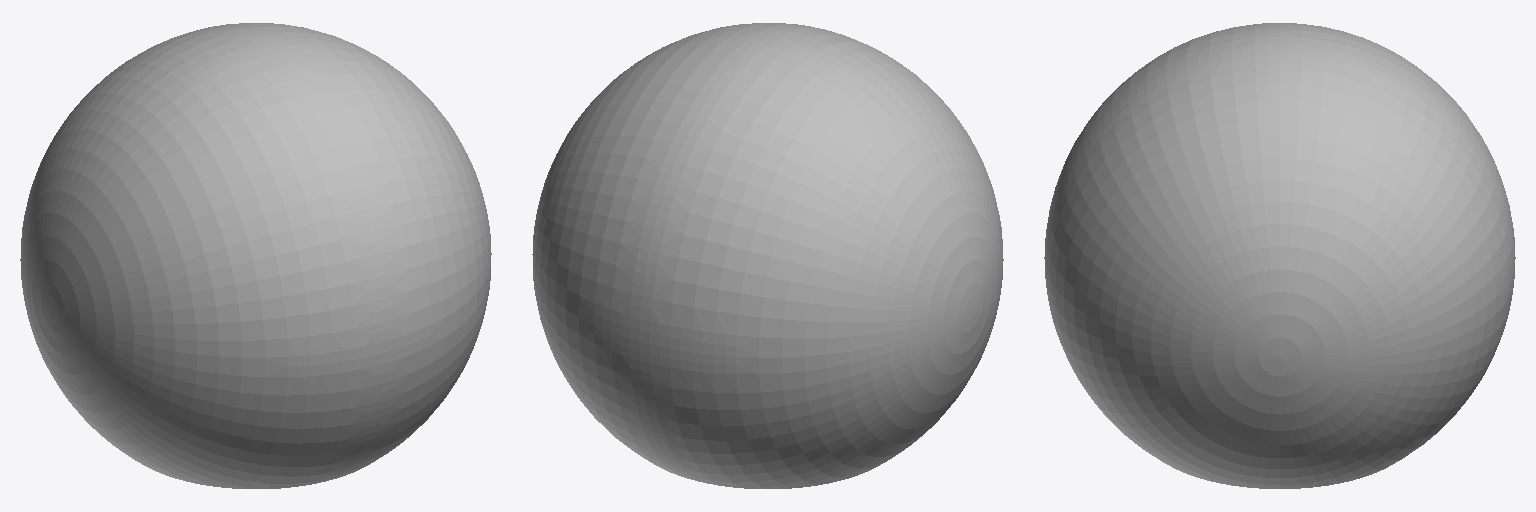
URDF robot description (root):
<robot name="root">
  <link name="link_001">
    <visual>
      <origin xyz="0 0 0" rpy="0 0 0"/>
      <geometry>
        <mesh filename="spheremedium.obj" scale="0.800E+00 0.800E+00 0.8000E+00"/>
      </geometry>
      <material name="">
        <color rgba="7.50E-01 7.50E-01 7.50E-01 1"/>
      </material>
    </visual>
    <collision>
      <origin xyz="0 0 0" rpy="0 0 0"/>
      <geometry>
        <mesh filename="spheremedium.obj" scale="0.8000E+00 0.8000E+00 0.8000E+00"/>
      </geometry>
    </collision>
    <inertial>
      <mass value="0.16"/> <!-- 质量：0.1kg -->
    </inertial>
  </link>
</robot>

--- What the picture shows (computed from the rendered views, not written in the file) ---
The picture shows the robot from 3 angles, left to right: view 1: azimuth 30°, elevation 25°; view 2: azimuth 150°, elevation 25°; view 3: azimuth 270°, elevation 25°; orthographic projection.
Robot: root — 1 links, 0 joints (none); root link link_001; default pose: all joints at 0.
Links seen in each view (by area): view 1: link_001; view 2: link_001; view 3: link_001.
Link boxes in pixels (x1,y1,x2,y2): link_001: (20, 23, 491, 488); link_001: (532, 23, 1003, 488); link_001: (1044, 23, 1515, 488).
Bounding box of the posed robot: 0.0641 × 0.0641 × 0.058 m (x, y, z).
Meshes: 1 distinct files referenced, 1 mesh visuals loaded (1 OBJ).
